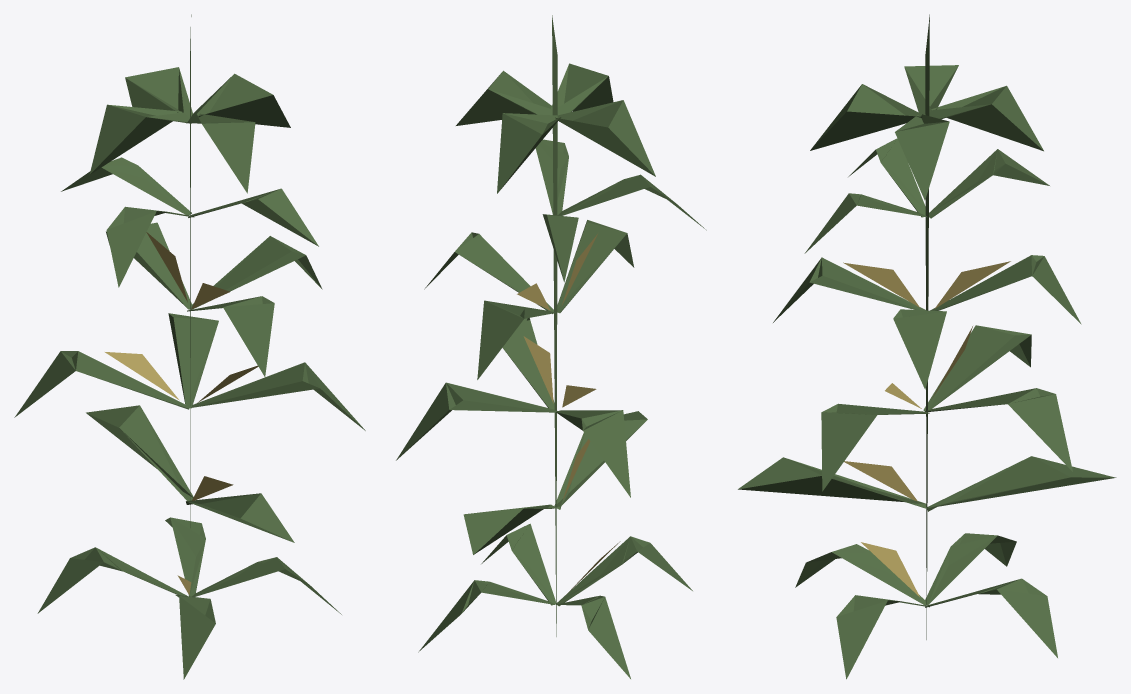
File: Corn_2.lod2.glb
The picture shows the model from 3 angles, left to right: view 1: azimuth 30°, elevation 25°; view 2: azimuth 150°, elevation 25°; view 3: azimuth 270°, elevation 25°; orthographic projection.
Parts seen in each view (by area): view 1: Corn_2; view 2: Corn_2; view 3: Corn_2.
Boxes of the visible parts, bbox=[...] form: Corn_2: bbox=[14, 14, 365, 679]; Corn_2: bbox=[396, 15, 706, 678]; Corn_2: bbox=[738, 14, 1116, 679].
Bounding box in the file's own units: 0.8313 × 1.98 × 1.04.
